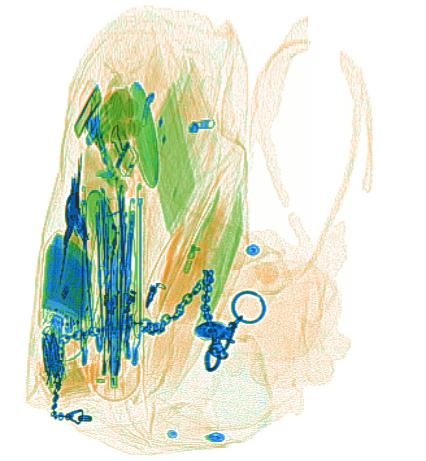plasticBottleWithaNozzle: (159, 210, 219, 324)
